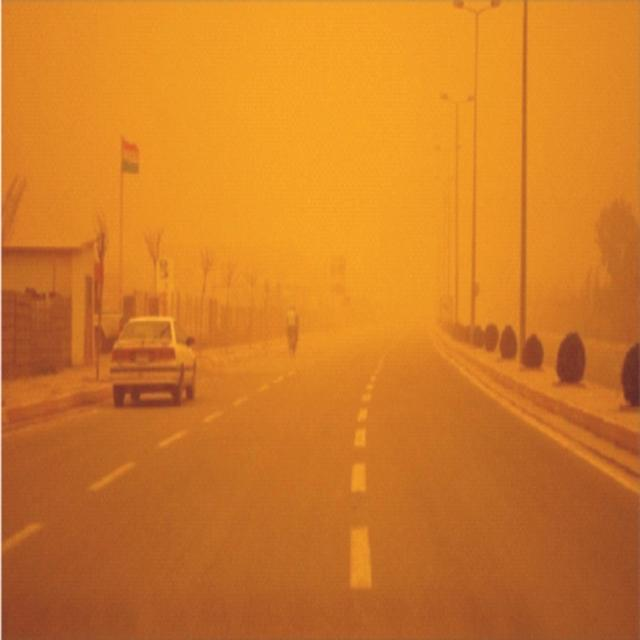Car: (110, 314, 200, 406)
Cycle: (286, 322, 299, 358)
